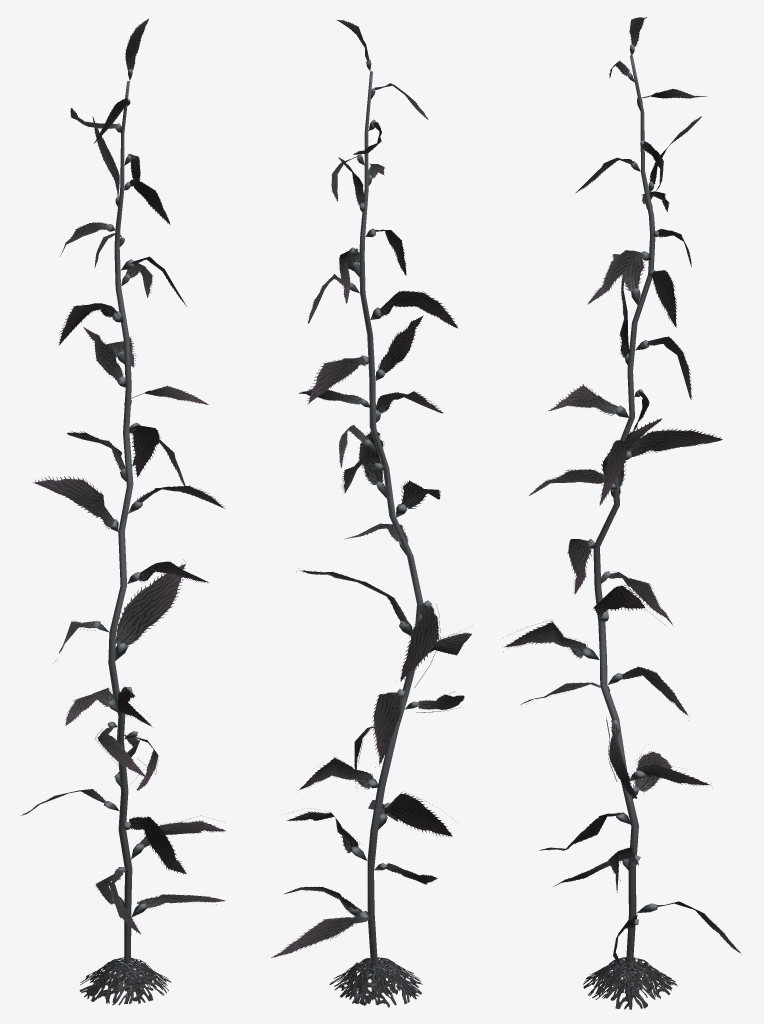
File: giant-kelp-d.fbx
The picture shows the model from 3 angles, left to right: view 1: azimuth 30°, elevation 25°; view 2: azimuth 150°, elevation 25°; view 3: azimuth 270°, elevation 25°; orthographic projection. The views are drawn at different scales.
Parts seen in each view (by area): view 1: kelp_giant_c_leaves_lod0, kelp_giant_d_stem_lod0; view 2: kelp_giant_c_leaves_lod0, kelp_giant_d_stem_lod0; view 3: kelp_giant_c_leaves_lod0, kelp_giant_d_stem_lod0.
Part boxes in pixels (<box>): kelp_giant_c_leaves_lod0: <box>21,18,225,1005</box>; kelp_giant_d_stem_lod0: <box>93,69,147,985</box>; kelp_giant_c_leaves_lod0: <box>271,20,472,1007</box>; kelp_giant_d_stem_lod0: <box>349,59,432,984</box>; kelp_giant_c_leaves_lod0: <box>502,17,740,1009</box>; kelp_giant_d_stem_lod0: <box>582,44,658,977</box>.
Size of what is drawn, in the model's own units: 114 by 551 by 125.
